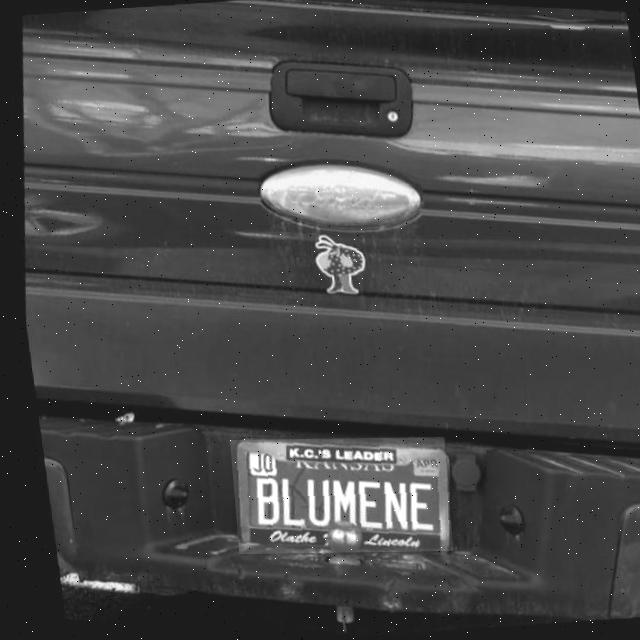LicensePlate: (228, 441, 439, 552)
